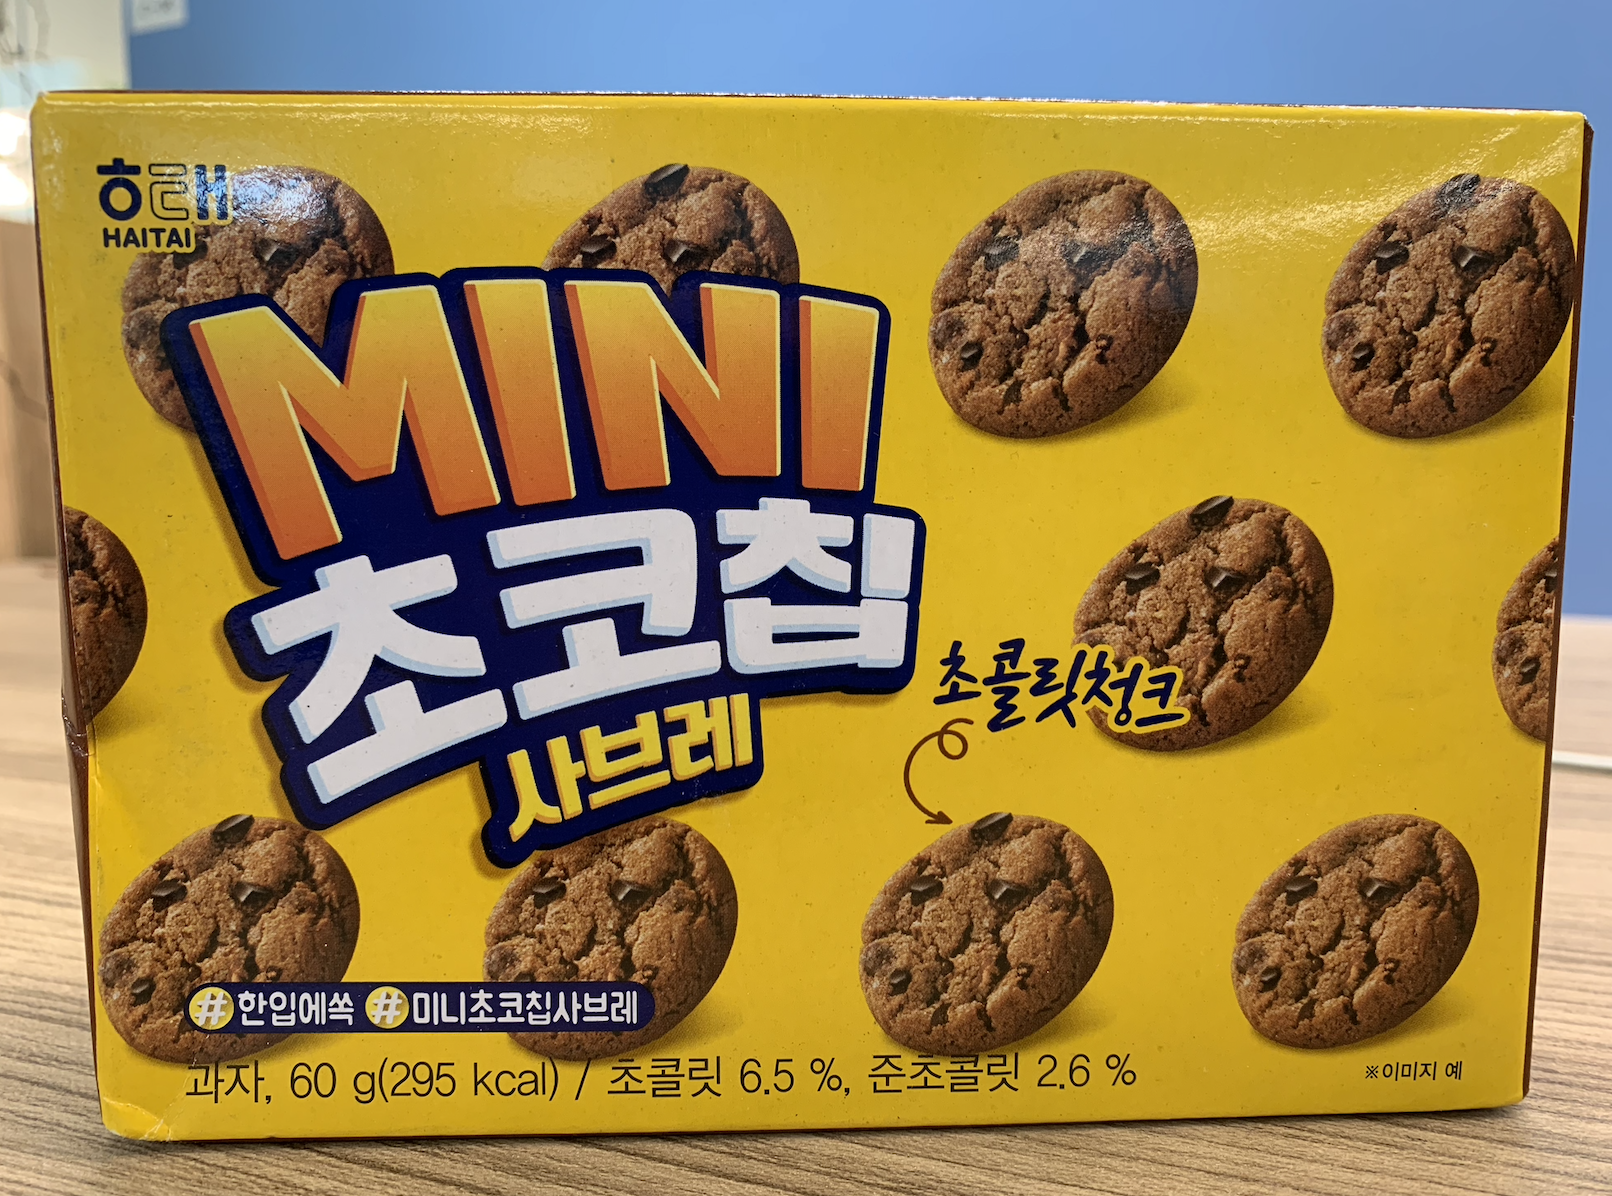cookies_50g: (77, 113, 1527, 1099)
